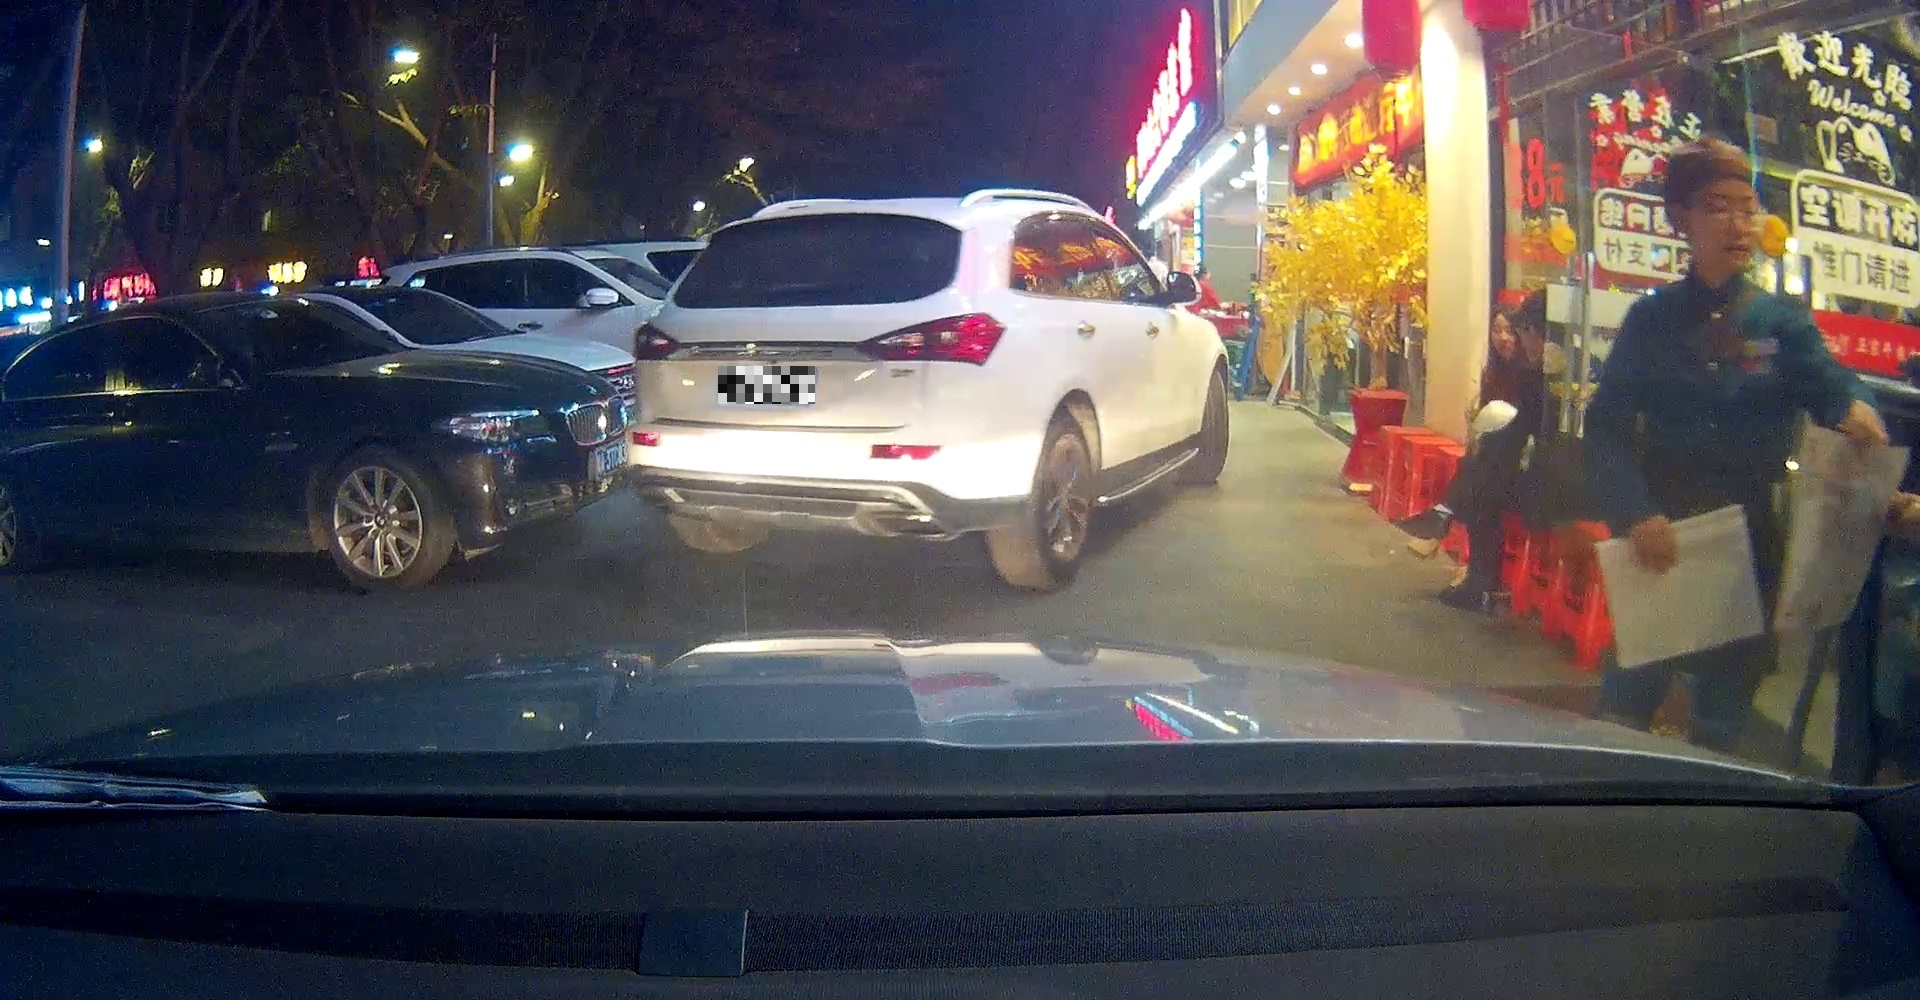L_light: (630, 321, 681, 362)
R_light: (857, 312, 1007, 365)
T_light: (806, 213, 844, 225)
night-no: (622, 201, 1007, 588)
plate_1: (717, 365, 815, 404)
